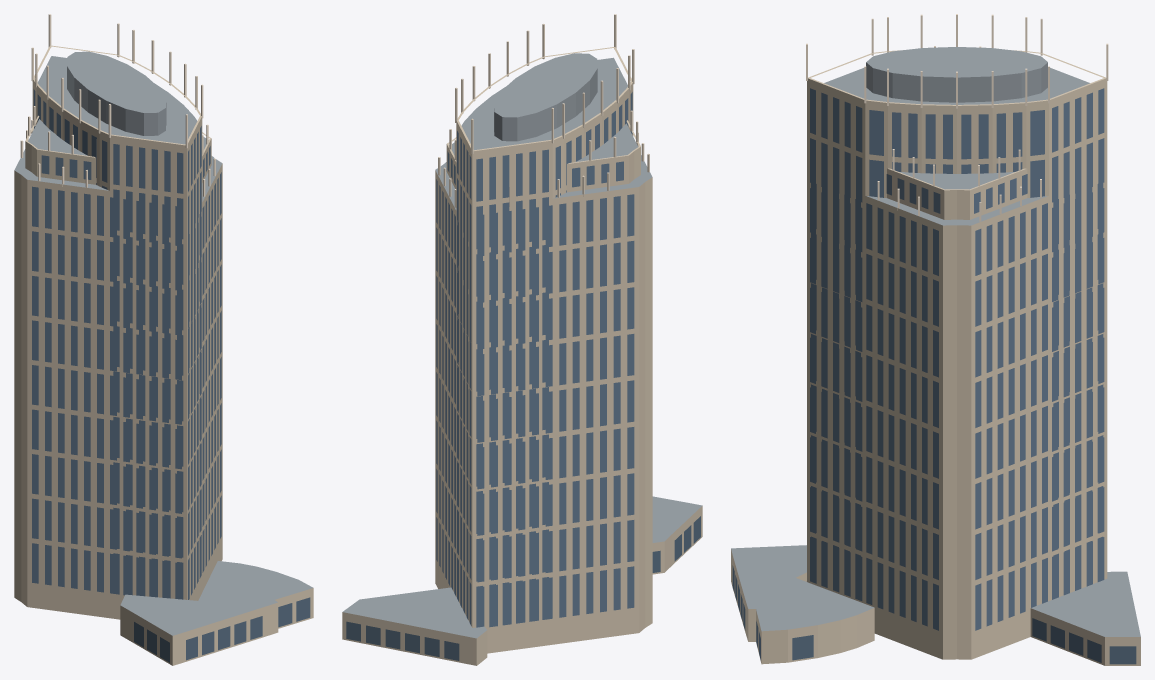
Rendered from clt-fifth-third-center.glb.
3 renders of one model, left to right at view 1: azimuth 30°, elevation 25°; view 2: azimuth 150°, elevation 25°; view 3: azimuth 270°, elevation 25°, orthographic. The views are drawn at different scales.
Visible parts, largest first — view 1: 201 North Tryon; view 2: 201 North Tryon; view 3: 201 North Tryon.
Part boxes in pixels (x1,y1,x2,y2): 201 North Tryon: (14, 14, 313, 665); 201 North Tryon: (342, 14, 702, 665); 201 North Tryon: (731, 14, 1140, 665).
Bounding box in the file's own units: 57.61 × 137 × 90.1.
